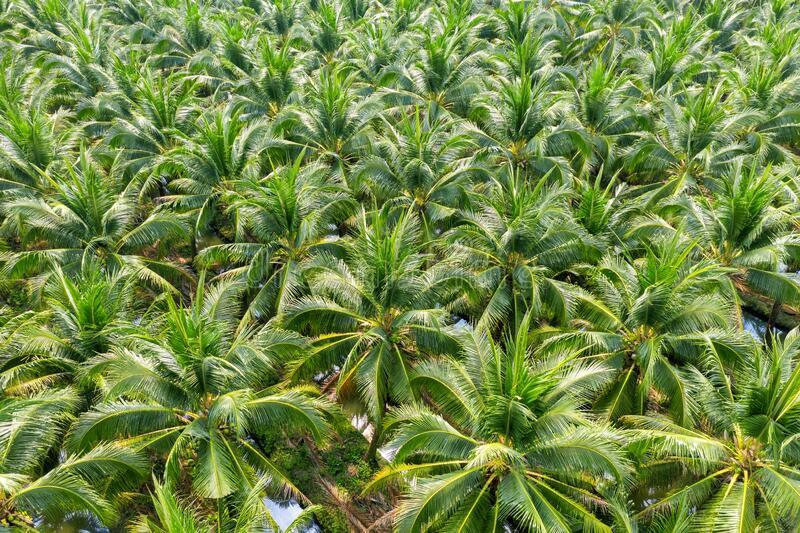coconut_tree: (366, 385, 611, 532), (87, 341, 332, 488), (554, 252, 716, 413), (0, 178, 173, 312), (298, 209, 450, 357), (462, 69, 581, 202), (454, 203, 565, 340), (175, 106, 276, 244), (355, 131, 478, 244), (97, 83, 183, 188), (284, 85, 383, 160)
